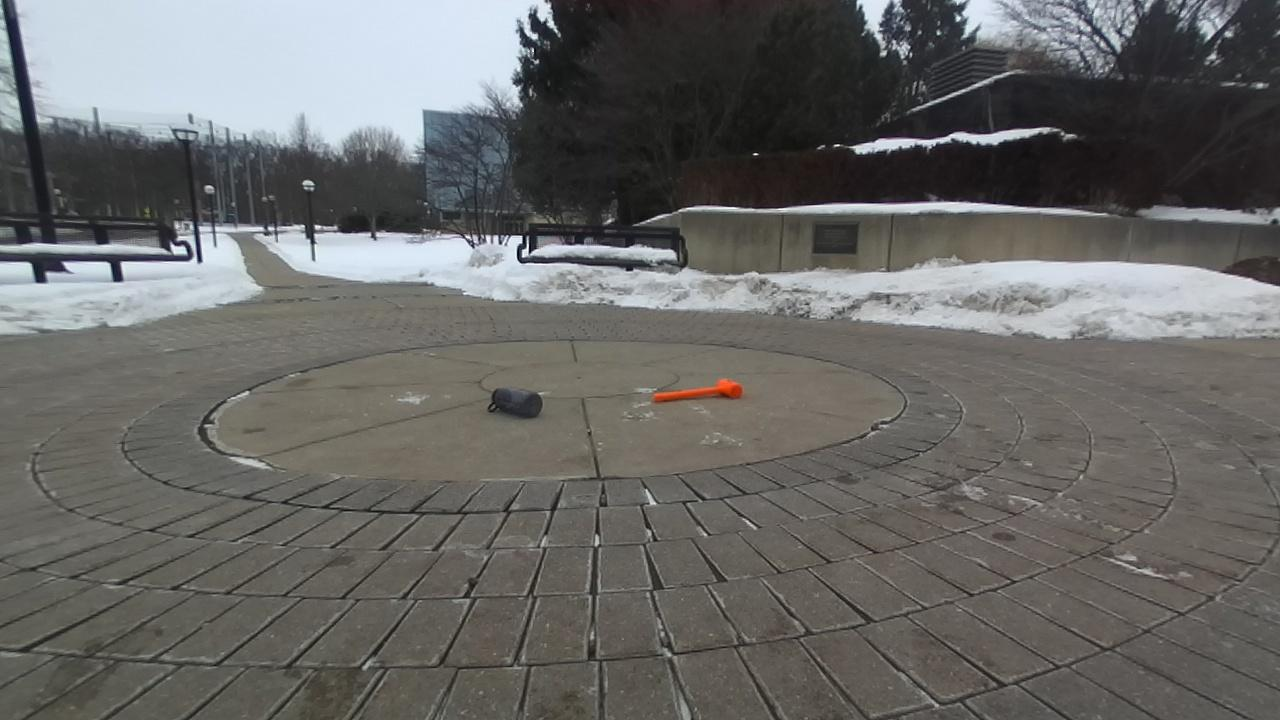bottle: (489, 388, 542, 417)
mallet: (654, 378, 742, 401)
